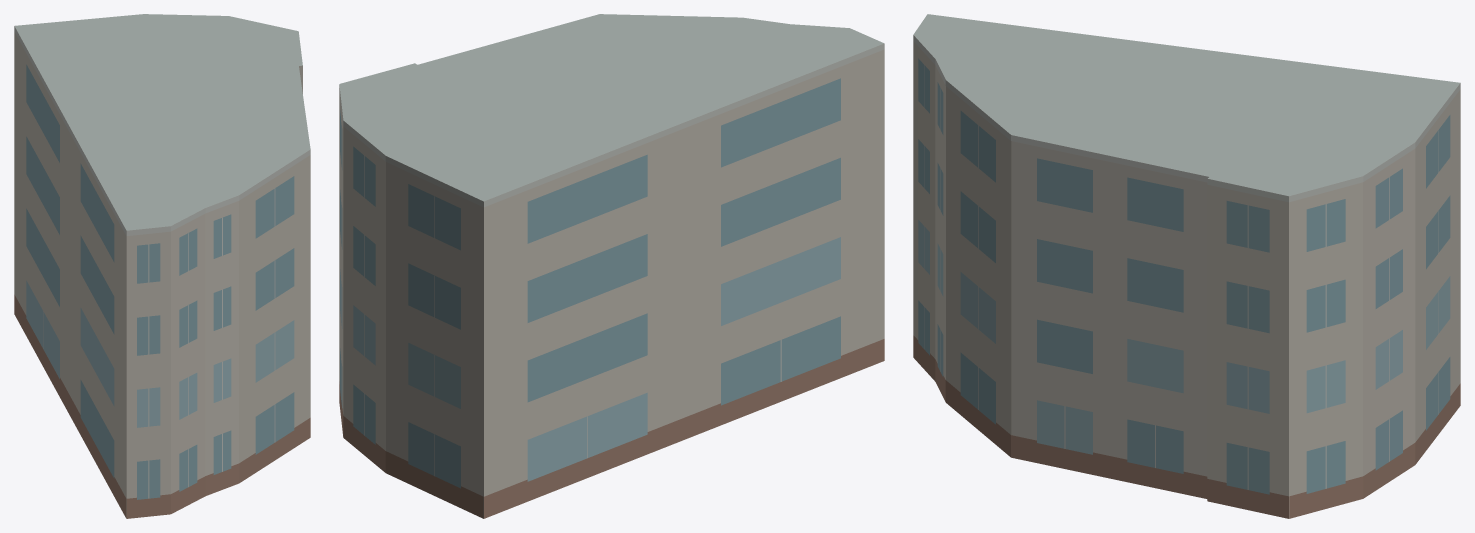
Rendered from survey-upis-32471096.glb.
3 renders of one model, left to right at view 1: azimuth 30°, elevation 25°; view 2: azimuth 150°, elevation 25°; view 3: azimuth 270°, elevation 25°, orthographic. The views are drawn at different scales.
Visible parts, largest first — view 1: survey-upis-32471096.tmp; view 2: survey-upis-32471096.tmp; view 3: survey-upis-32471096.tmp.
Boxes of the visible parts, x1=… form: survey-upis-32471096.tmp: x1=14, y1=14, x2=310, y2=518; survey-upis-32471096.tmp: x1=339, y1=14, x2=884, y2=518; survey-upis-32471096.tmp: x1=913, y1=14, x2=1460, y2=518.
Size of the model in its own units: 15.76 by 13 by 20.
